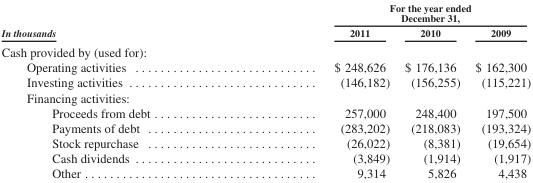table: (0, 1, 530, 180)
table column: (0, 1, 241, 180), (241, 1, 396, 180), (396, 1, 467, 180), (467, 1, 530, 180)
table column header: (0, 1, 530, 41)
table projected row header: (0, 41, 530, 59), (0, 89, 530, 104)
table row: (0, 1, 530, 24), (0, 41, 530, 59), (0, 24, 530, 41), (0, 119, 530, 135), (0, 59, 530, 74), (0, 74, 530, 89), (0, 89, 530, 104), (0, 104, 530, 119), (0, 135, 530, 150), (0, 150, 530, 165), (0, 165, 530, 180)
table spanning cell: (0, 1, 241, 41), (241, 1, 530, 24)
